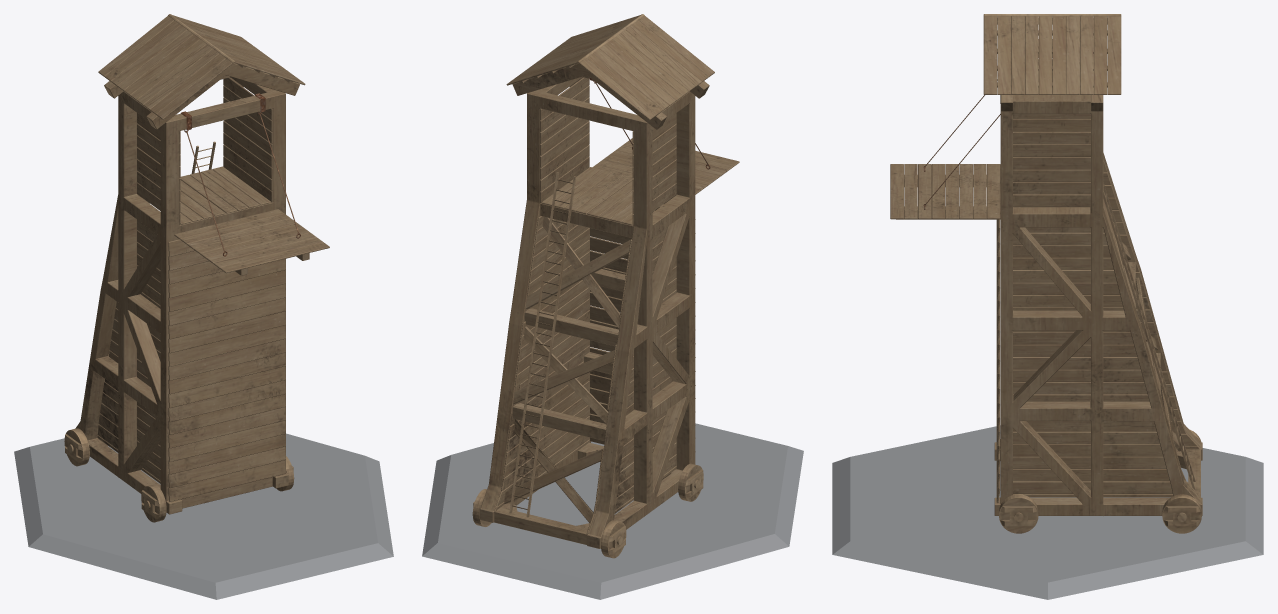
The model's file is Siege  Tower.fbx.
3 renders of one model, left to right at view 1: azimuth 30°, elevation 25°; view 2: azimuth 150°, elevation 25°; view 3: azimuth 270°, elevation 25°, orthographic. The views are drawn at different scales.
Parts seen in each view (by area): view 1: Piece Base.004; view 2: Piece Base.004; view 3: Piece Base.004.
Boxes of the visible parts, left/top/right/bottom form: Piece Base.004: left=14, top=14, right=393, bottom=599; Piece Base.004: left=422, top=14, right=803, bottom=599; Piece Base.004: left=832, top=14, right=1263, bottom=599.
Size of the model in its own units: 99 by 125 by 99.
